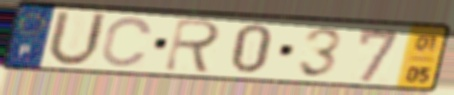0: (228, 22, 277, 75)
3: (297, 26, 344, 78)
7: (355, 26, 404, 84)
C: (98, 15, 156, 69)
R: (161, 16, 225, 76)
U: (43, 7, 110, 69)
